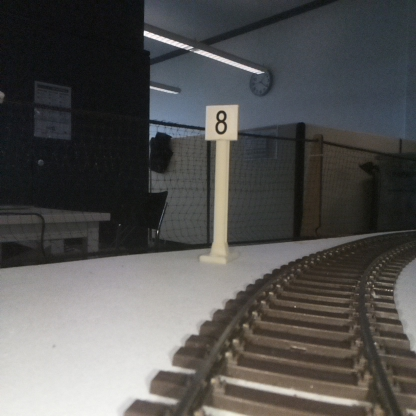white-info-8: (205, 105, 238, 261)
